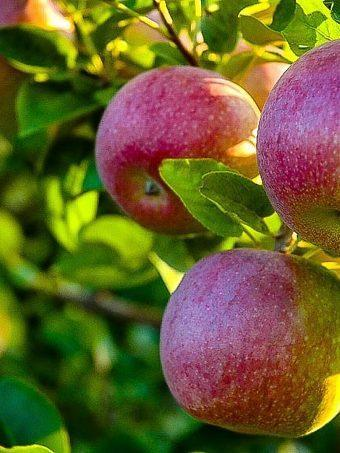apple: (156, 246, 337, 440), (95, 63, 259, 236), (254, 43, 338, 258)
